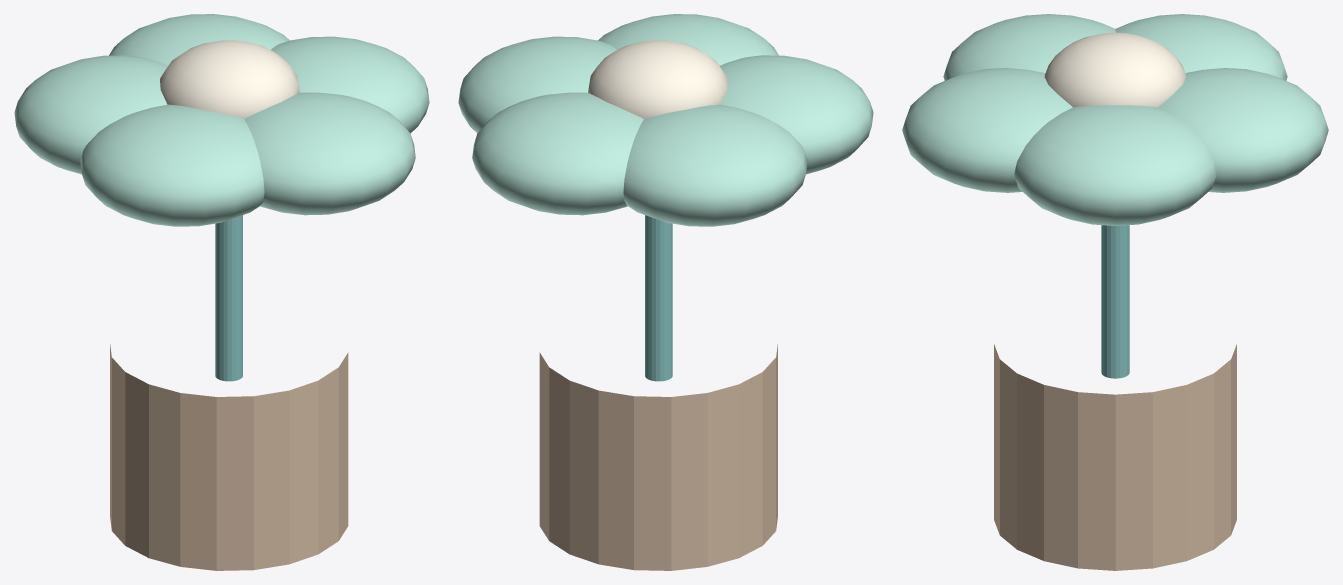
File: plant-clover.glb
The picture shows the model from 3 angles, left to right: view 1: azimuth 30°, elevation 25°; view 2: azimuth 150°, elevation 25°; view 3: azimuth 270°, elevation 25°; orthographic projection.
Visible parts, largest first — view 1: pot, petal2, petal1, petal3, petal0, center, petal4, stem; view 2: pot, petal3, petal4, petal2, petal0, center, petal1, stem; view 3: pot, petal0, petal1, petal4, center, petal2, petal3, stem.
Part boxes in pixels (<box>): pot: <box>110,344,348,570</box>; petal2: <box>80,104,264,226</box>; petal1: <box>244,92,415,215</box>; petal3: <box>14,55,167,174</box>; petal0: <box>271,36,429,133</box>; center: <box>160,40,299,118</box>; petal4: <box>109,14,289,65</box>; stem: <box>215,215,242,381</box>; pot: <box>539,344,777,570</box>; petal3: <box>623,104,807,226</box>; petal4: <box>472,92,643,215</box>; petal2: <box>720,55,873,174</box>; petal0: <box>458,36,616,133</box>; center: <box>588,40,727,118</box>; petal1: <box>598,14,778,65</box>; stem: <box>645,215,672,381</box>; pot: <box>994,344,1236,570</box>; petal0: <box>1014,105,1216,225</box>; petal1: <box>902,68,1072,192</box>; petal4: <box>1158,68,1328,192</box>; center: <box>1044,32,1186,107</box>; petal2: <box>943,14,1115,80</box>; petal3: <box>1115,14,1287,80</box>; stem: <box>1101,225,1129,378</box>.
Bounding box in the file's own units: 0.5133 × 0.65 × 0.5263.
